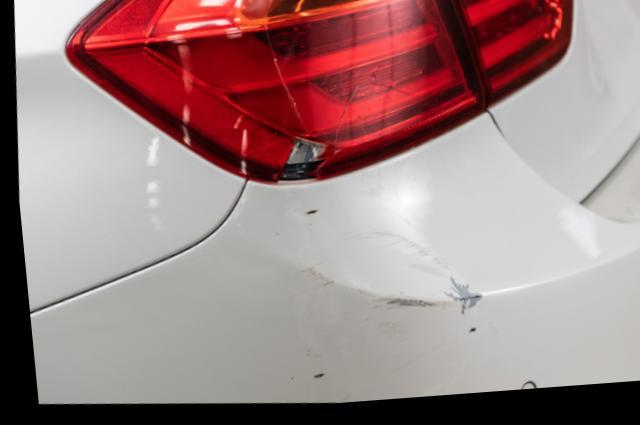lamp broken: (64, 0, 485, 188)
scratch: (288, 230, 478, 407)
